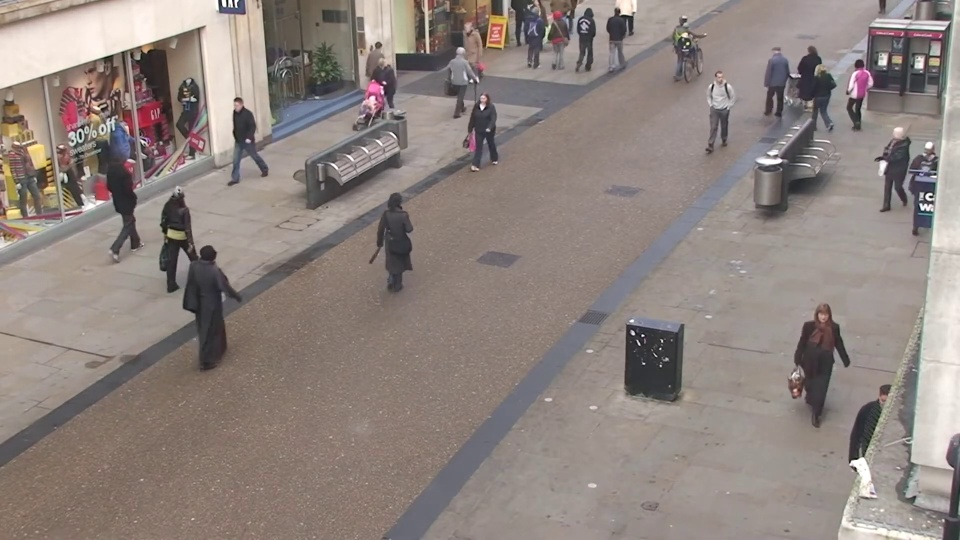pedestrian: (793, 299, 847, 444), (200, 233, 249, 358), (901, 132, 949, 236), (172, 175, 217, 285), (379, 186, 419, 301), (868, 123, 912, 223), (111, 140, 154, 240), (216, 96, 251, 184), (836, 56, 871, 139), (465, 91, 495, 180), (798, 57, 830, 139), (700, 69, 729, 152), (790, 41, 821, 118), (754, 42, 783, 119), (363, 56, 391, 135), (451, 42, 478, 117), (369, 35, 396, 108), (454, 23, 479, 93), (675, 6, 699, 73), (540, 12, 564, 78), (522, 4, 545, 68), (610, 4, 632, 69), (580, 4, 602, 69)
